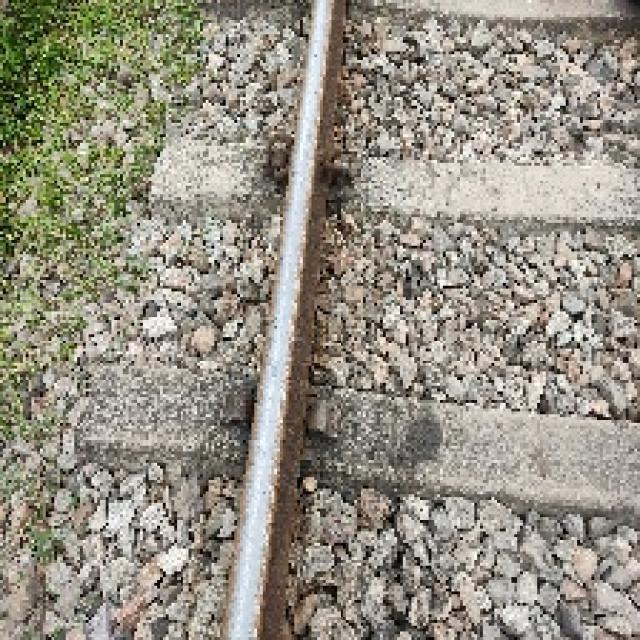Missing Fastener: (214, 386, 254, 432), (303, 402, 339, 446)
